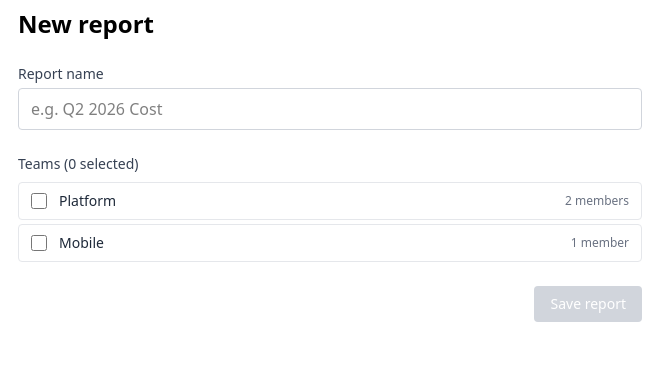
Test: surfaces schema errors once a field goes invalid
Type "Q2 Cost" into the field labelled "Report name" at {"x": 330, "y": 109}, box [18, 88, 642, 130]
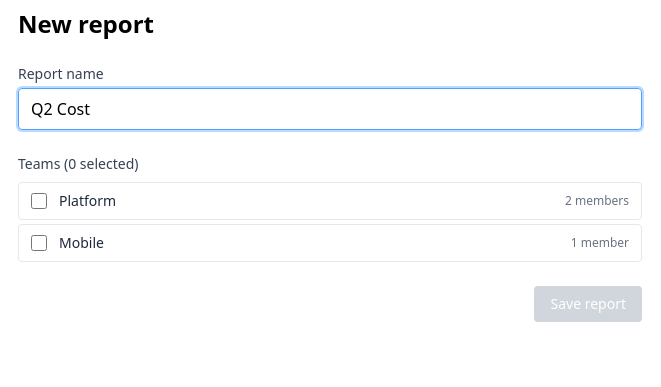
Clear the field labelled "Report name" at {"x": 330, "y": 109}, box [18, 88, 642, 130]
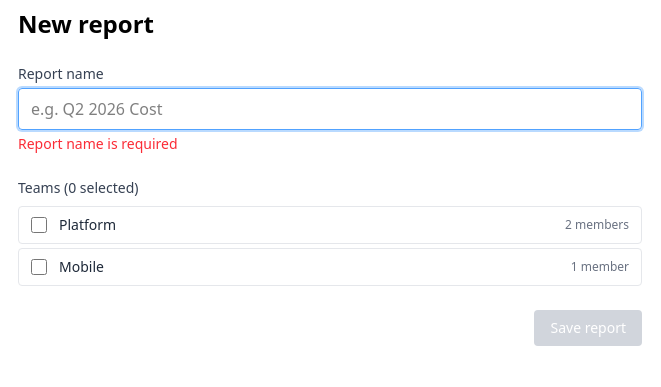
Now the text "Report name is required" is shown, box [18, 134, 178, 153]
Click the checkbox labelled "Platform 2 members" at {"x": 39, "y": 225}, box [31, 217, 47, 233]
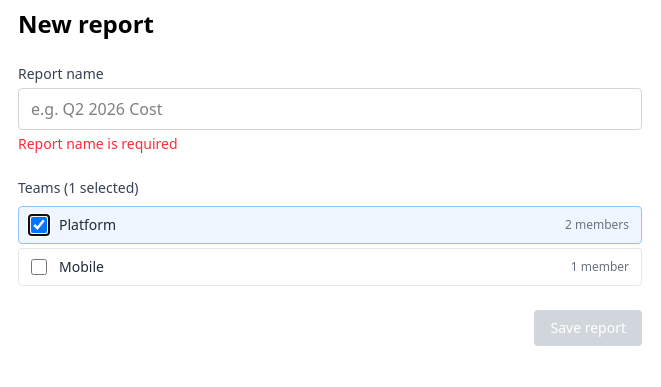
Click the checkbox labelled "Platform 2 members" at {"x": 39, "y": 225}, box [31, 217, 47, 233]
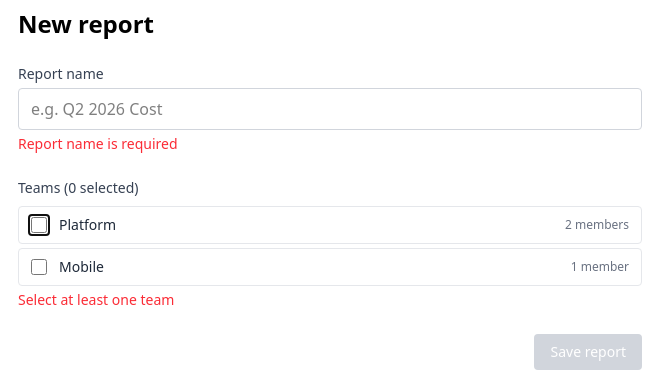
Now the text "Select at least one team" is shown, box [18, 290, 174, 309]
